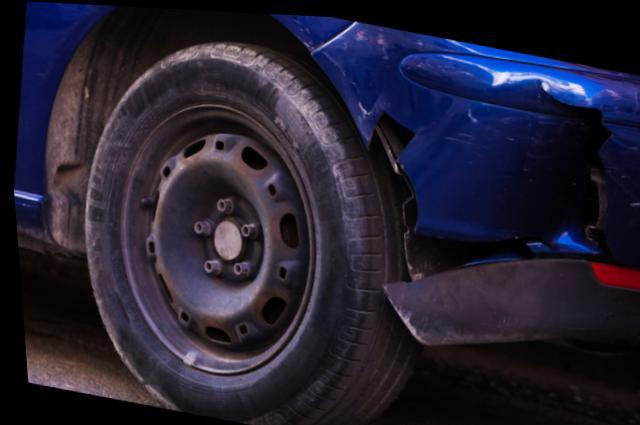crack: (540, 75, 611, 250)
dent: (26, 1, 94, 66)
dislocated part: (369, 226, 640, 341)
no part: (366, 112, 418, 243)
